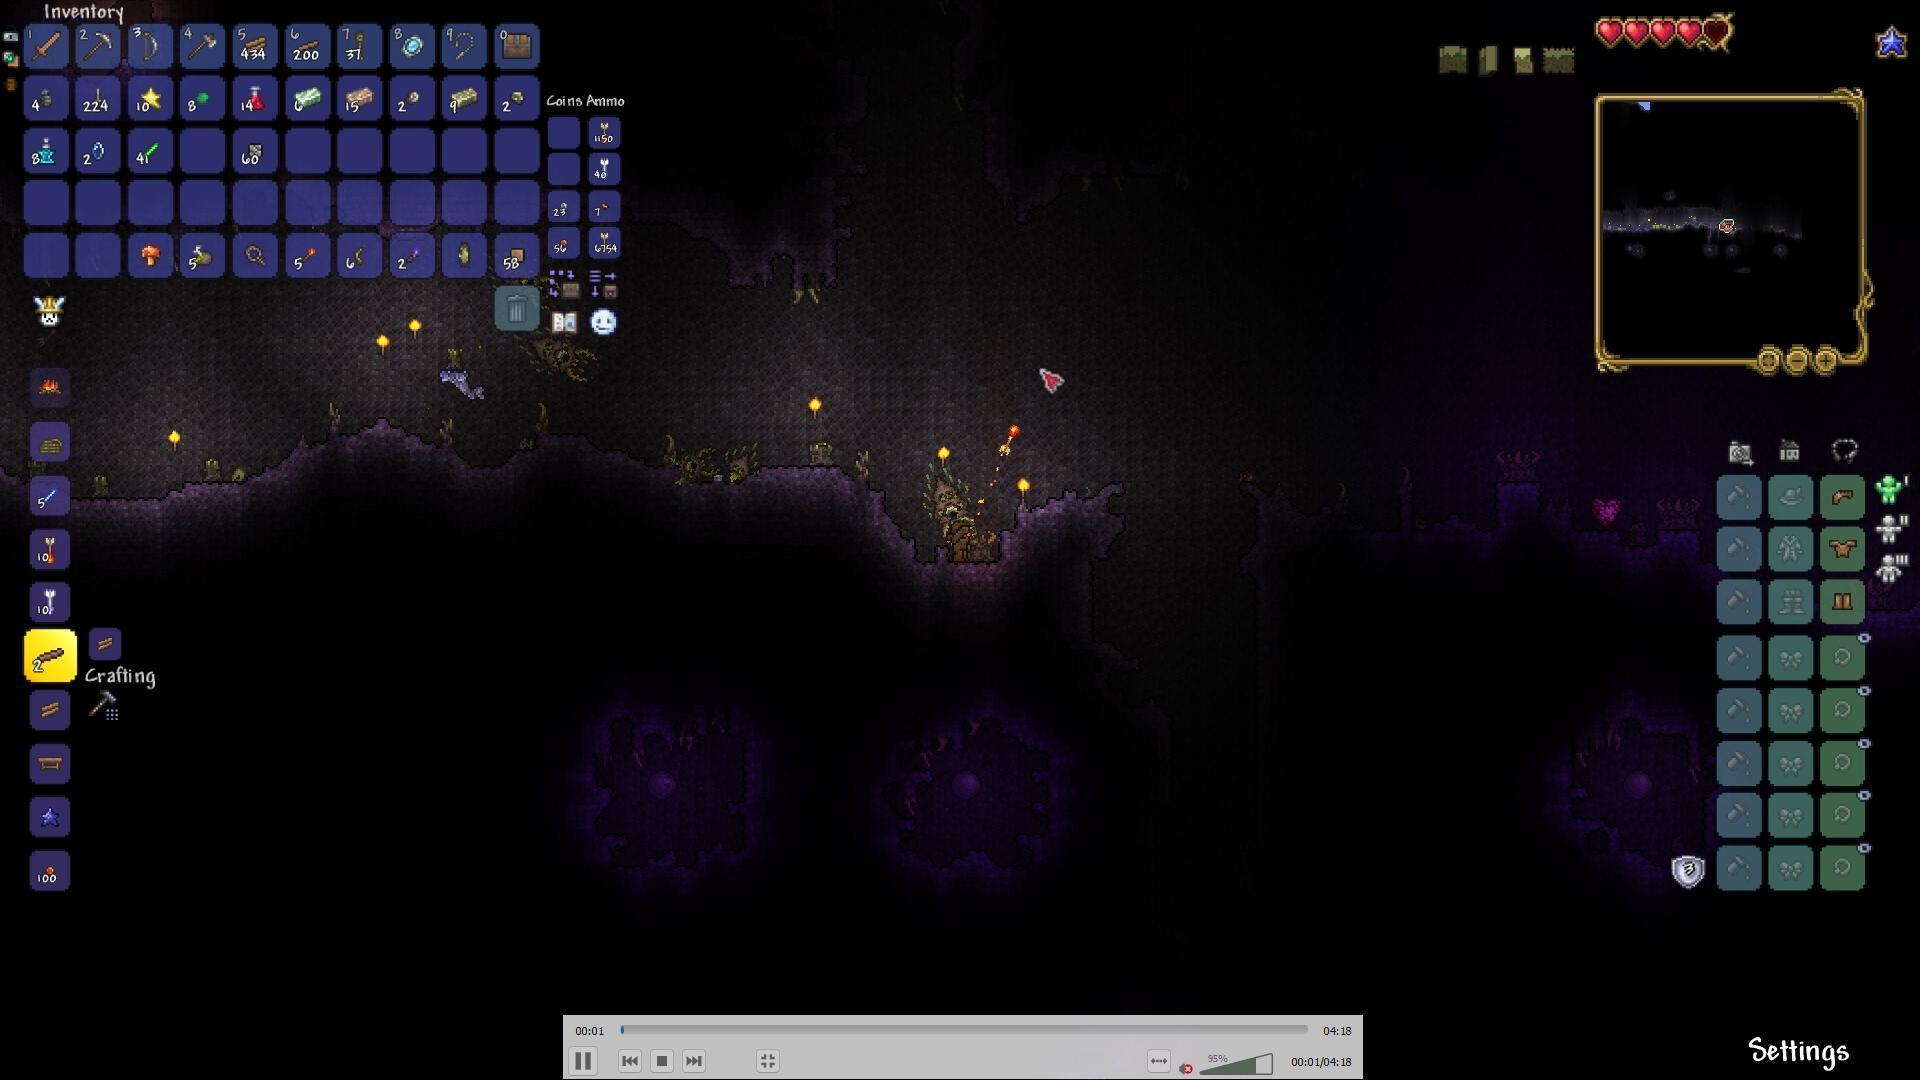chest: (501, 30, 534, 59)
crimera: (513, 322, 615, 386), (918, 458, 978, 537)
glowstick: (138, 138, 162, 164)
grenade: (36, 84, 55, 109)
knife: (91, 83, 104, 107)
lifeC: (1585, 488, 1625, 526)
potion: (247, 84, 266, 109)
recallP: (36, 138, 61, 167)
star: (138, 84, 162, 113)
